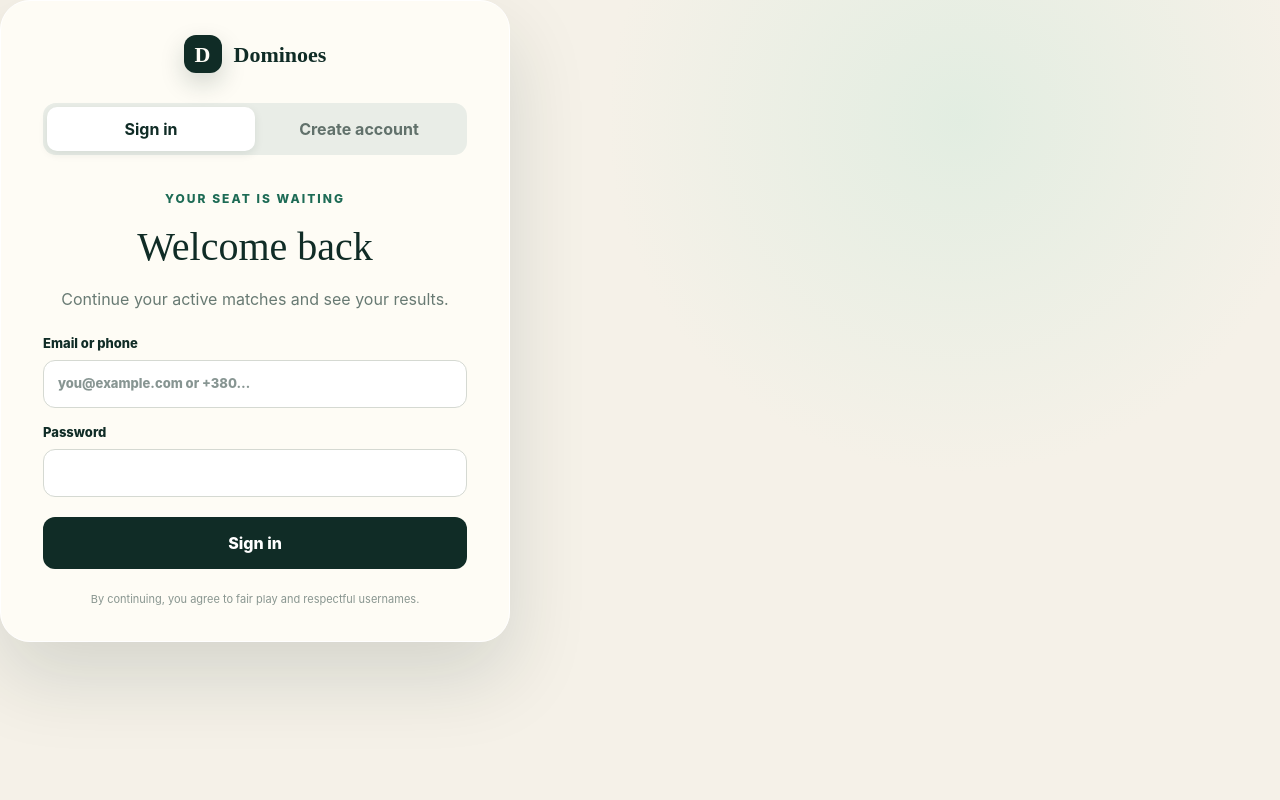
AuthForm › reveals username when switching to account creation
Click the tab "Create account".
click(359, 129)  # box [255,107,463,151]
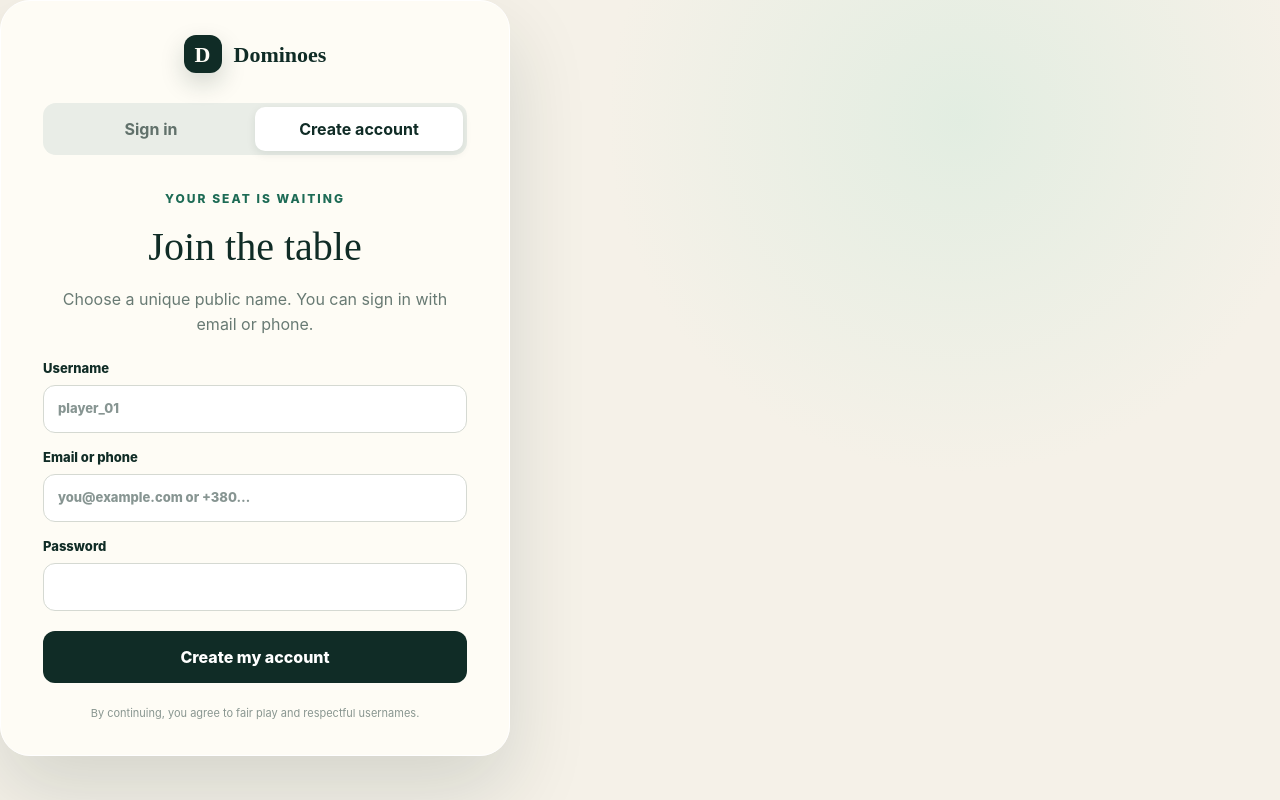
Expected: the field labelled "Username" is shown, [43,385,467,433]
Expected: the button "Create my account" is shown, [43,631,467,683]
